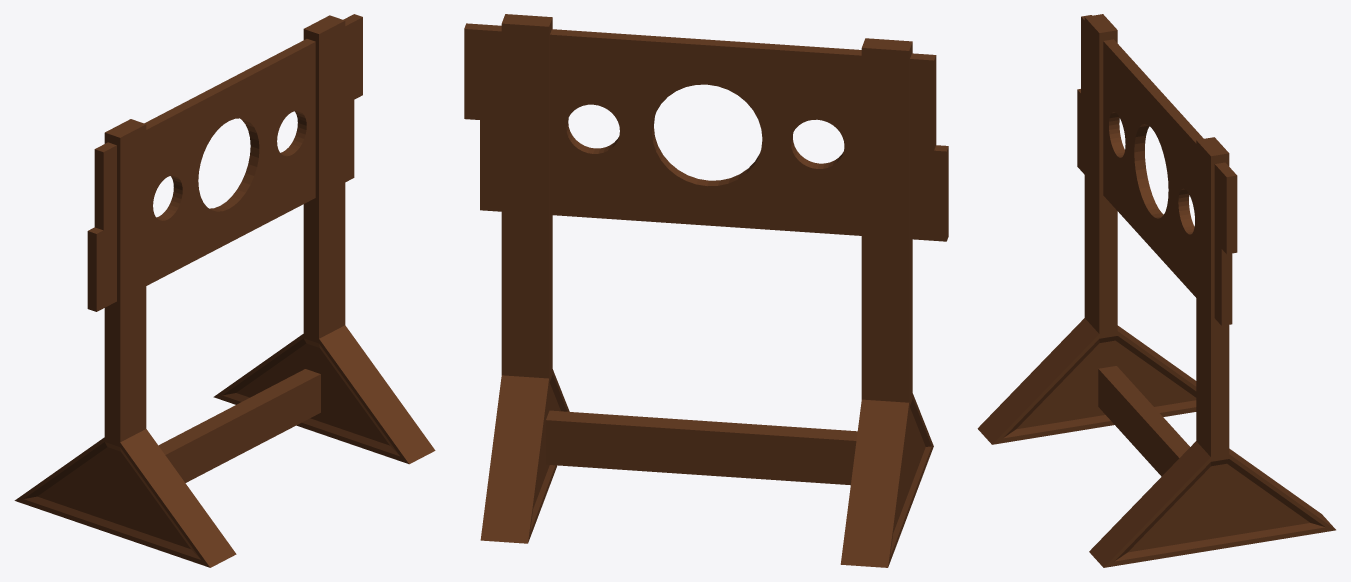
File: Pranger.fbx
3 views of the same model, side by side, from view 1: azimuth 30°, elevation 25°; view 2: azimuth 150°, elevation 25°; view 3: azimuth 270°, elevation 25° (orthographic). The views are drawn at different scales.
Parts seen in each view (by area): view 1: Cube; view 2: Cube; view 3: Cube.
Part boxes in pixels (<box>): Cube: <box>14,14,435,567</box>; Cube: <box>464,14,948,567</box>; Cube: <box>977,14,1335,567</box>.
Size of the model in its own units: 84.92 by 88.21 by 72.82.
